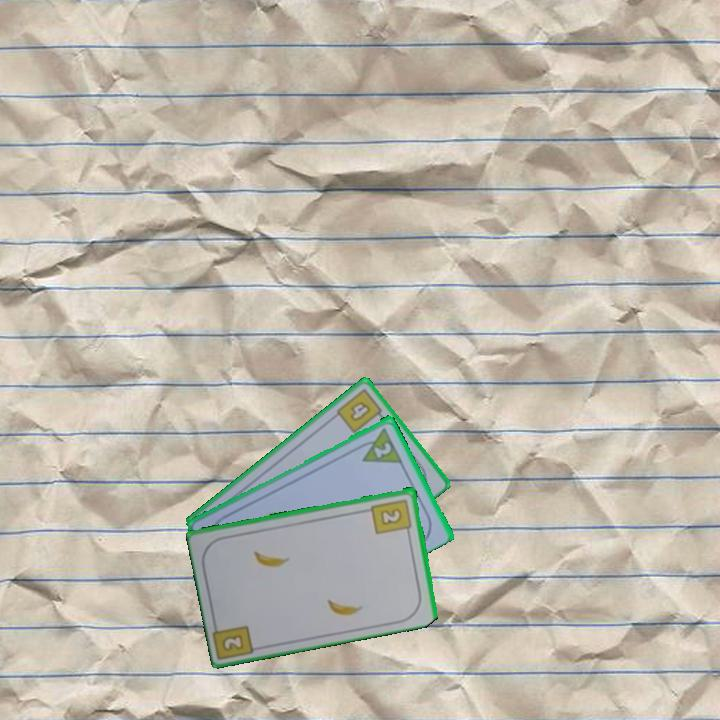2b: (368, 495, 415, 537), (218, 630, 247, 654)
2p: (353, 423, 405, 466)
4b: (333, 385, 388, 436)
